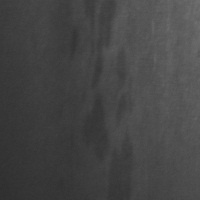inclusion: (80, 0, 116, 163), (106, 40, 140, 199)
